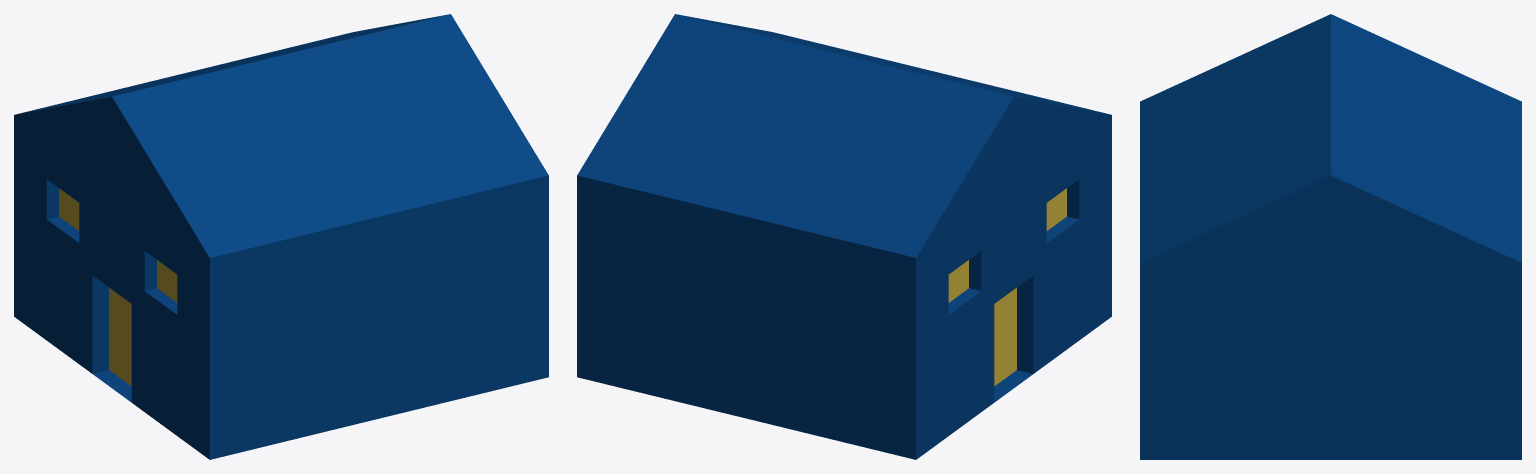
Rendered from loweshouse.gltf.
The picture shows the model from 3 angles, left to right: view 1: azimuth 30°, elevation 25°; view 2: azimuth 150°, elevation 25°; view 3: azimuth 270°, elevation 25°; orthographic projection. The views are drawn at different scales.
Parts seen in each view (by area): view 1: Cube; view 2: Cube; view 3: Cube.
Boxes of the visible parts, left/top/right/bottom form: Cube: left=14, top=14, right=548, bottom=459; Cube: left=577, top=14, right=1111, bottom=459; Cube: left=1140, top=14, right=1521, bottom=459.
Size of the model in its own units: 0.738 by 0.6067 by 0.738.
